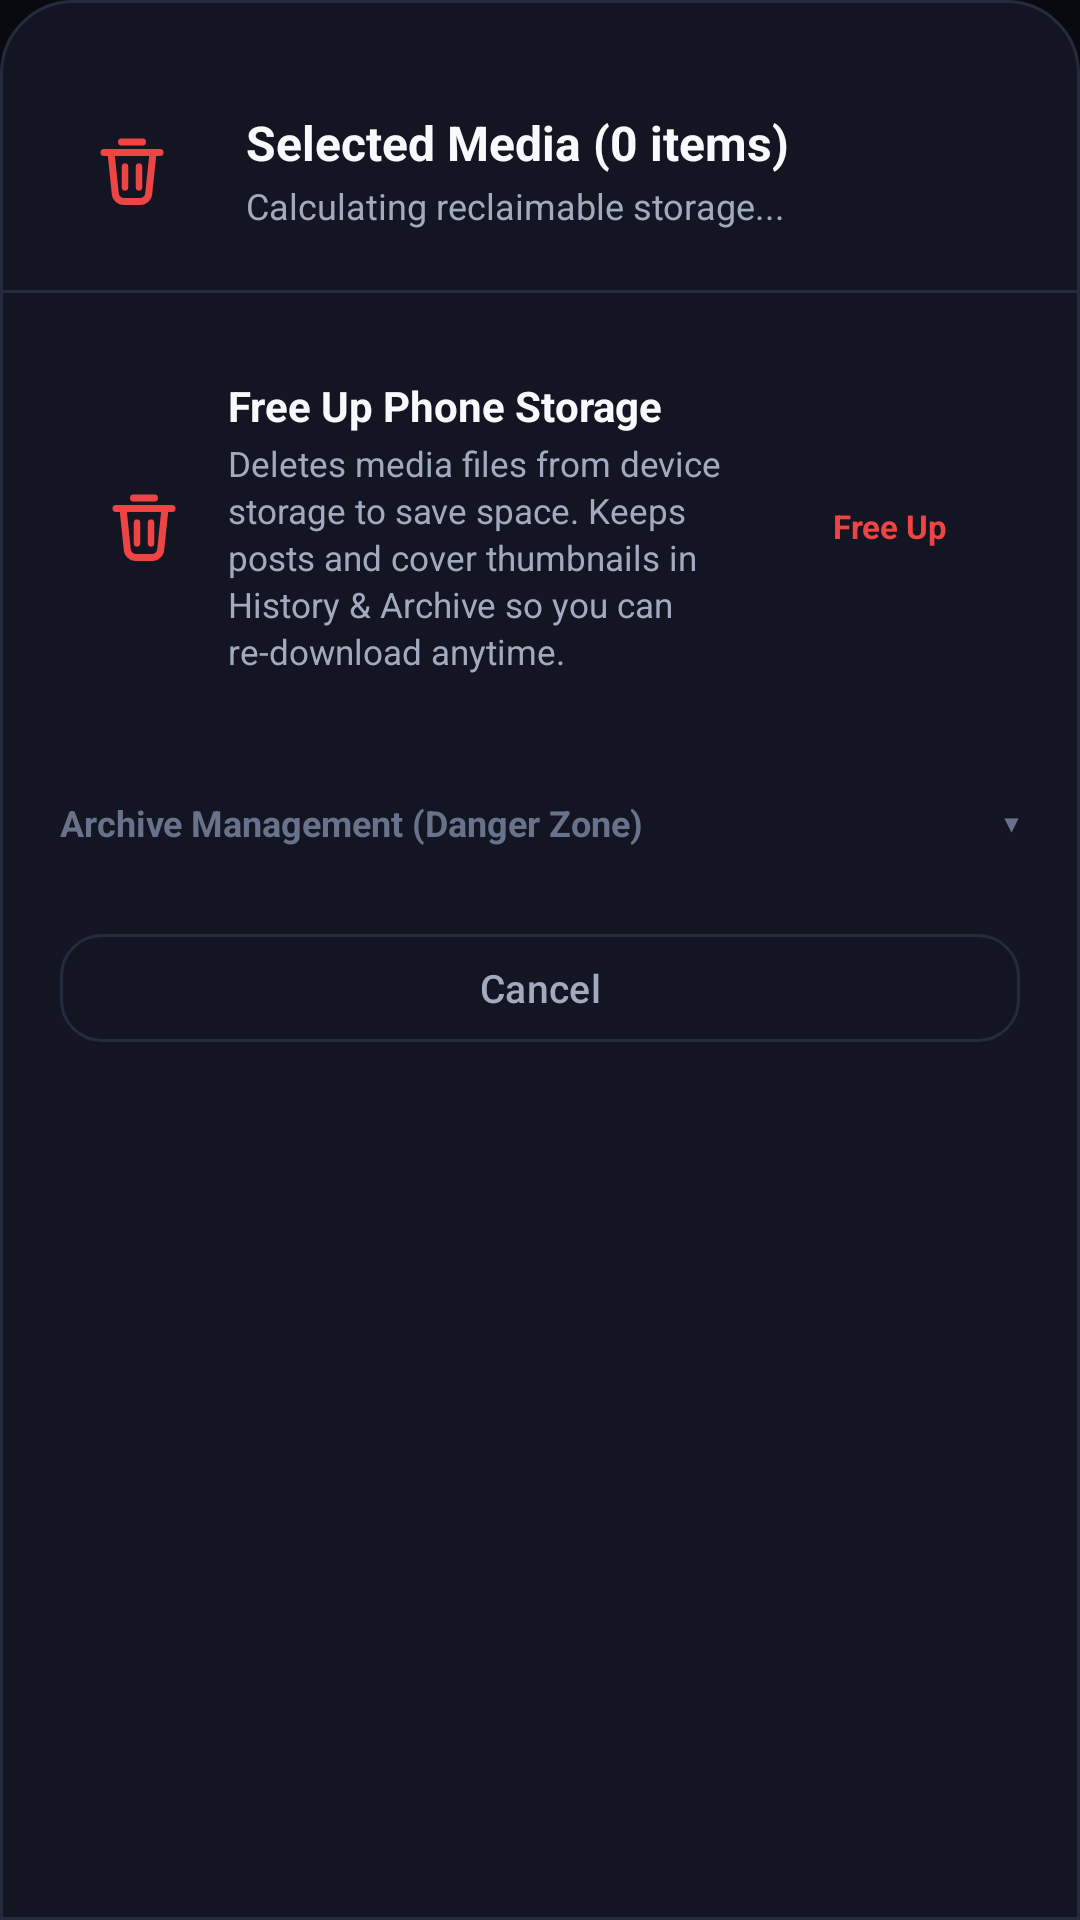

Named icons in this screenshot (1080x1920) and their centers, (x,y):
Batch Delete: (132,171)
